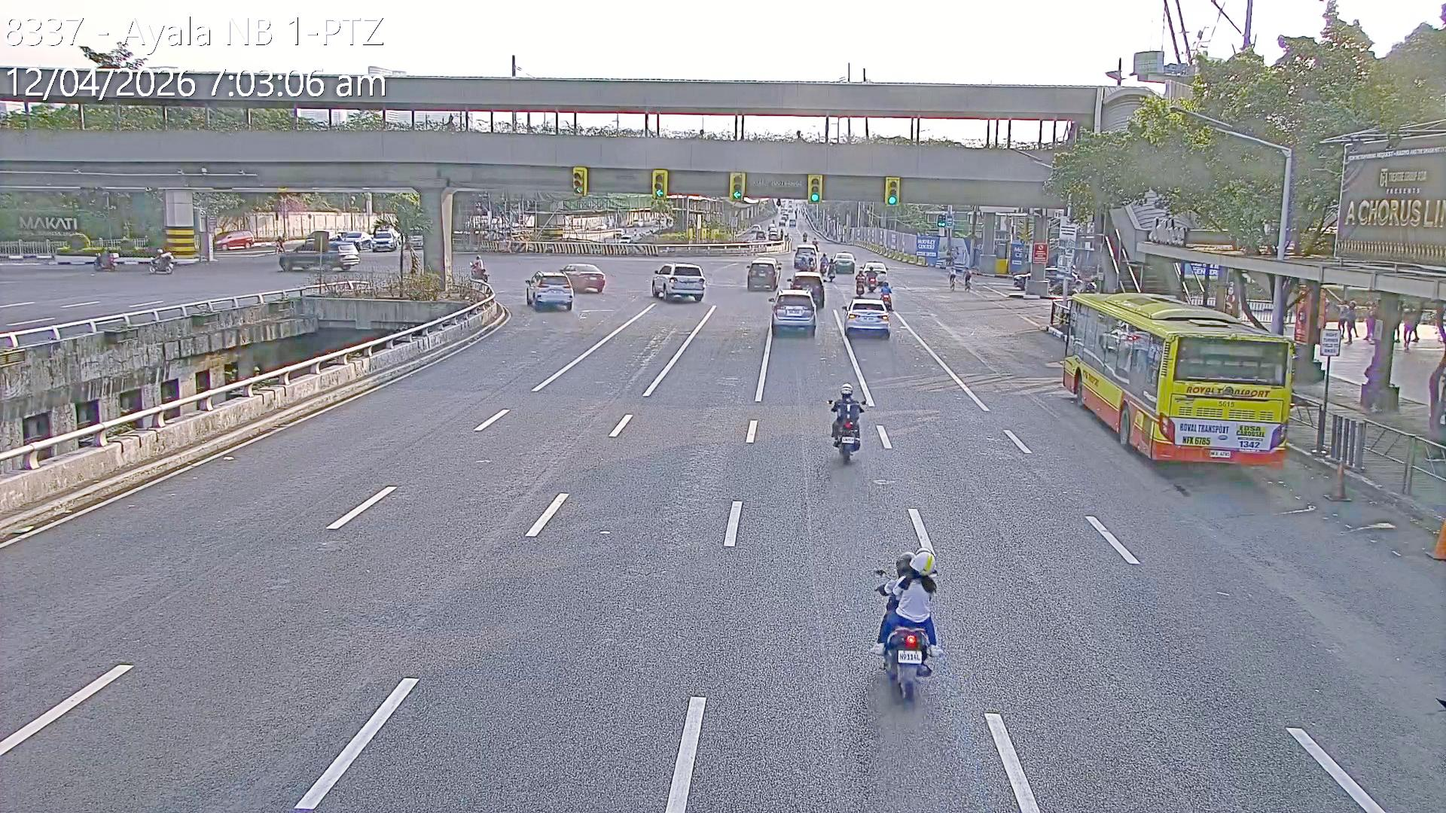Car: (279, 233, 360, 272), (651, 260, 705, 303), (770, 288, 818, 336), (524, 270, 574, 312), (844, 297, 890, 338), (558, 263, 607, 293), (789, 270, 825, 309), (207, 227, 258, 252), (746, 256, 780, 291), (333, 229, 373, 252), (368, 227, 399, 251), (831, 251, 856, 274), (795, 244, 817, 269), (862, 262, 888, 279)
Motor: (868, 553, 944, 703), (826, 394, 869, 460), (144, 245, 179, 278), (878, 279, 895, 313), (865, 266, 880, 294), (466, 263, 484, 285), (853, 268, 866, 295), (818, 251, 830, 276), (824, 259, 837, 282), (805, 251, 818, 272)
Not Accident: (277, 219, 402, 271), (527, 262, 607, 312), (770, 269, 825, 340), (852, 258, 895, 311), (819, 250, 856, 284), (793, 242, 819, 270)
